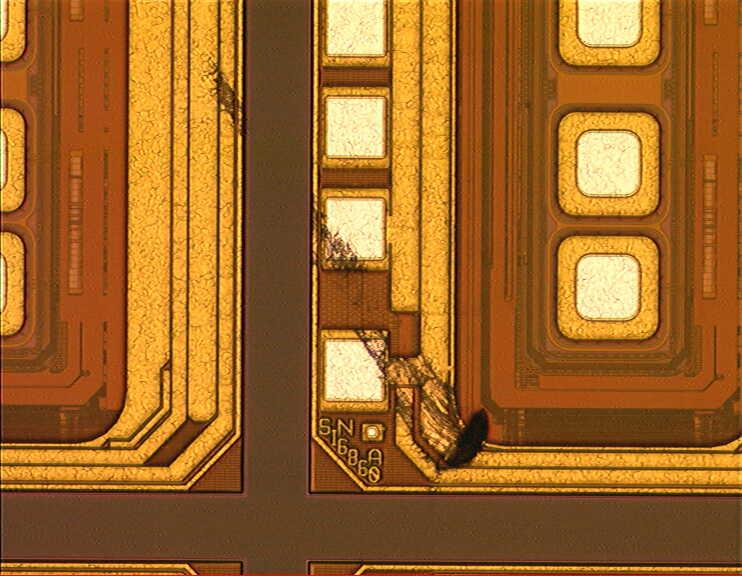SCRATCH: (141, 1, 495, 476)
